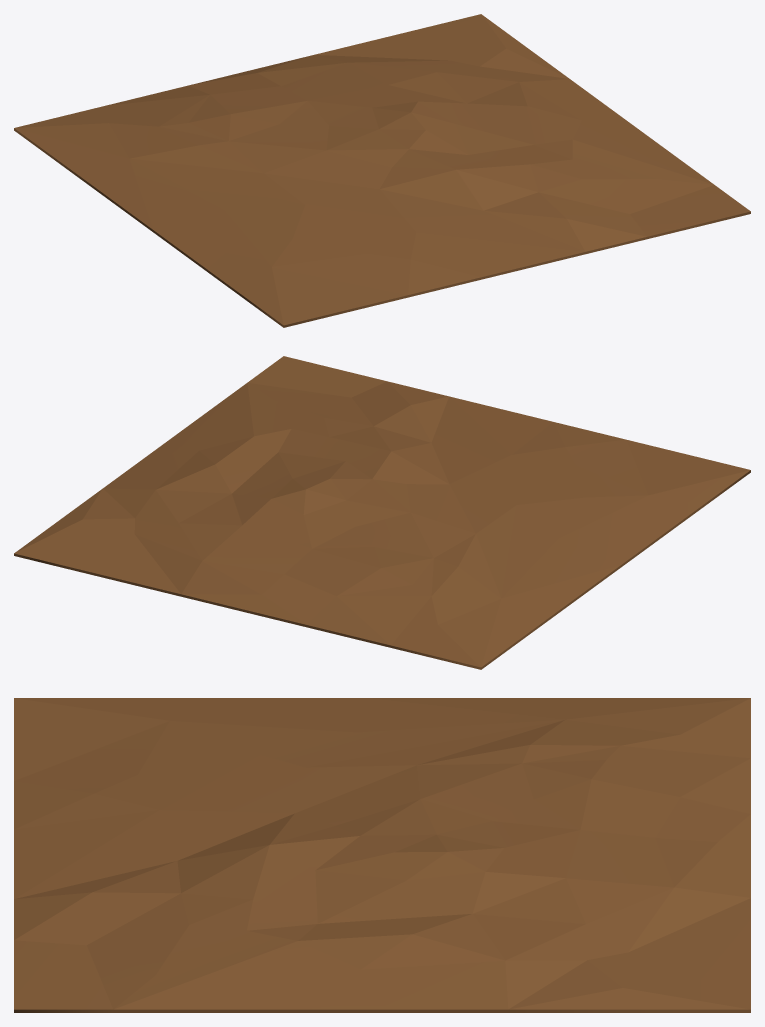
Rendered from Mud_02.fbx.
The picture shows the model from 3 angles, top to bottom: view 1: azimuth 30°, elevation 25°; view 2: azimuth 150°, elevation 25°; view 3: azimuth 270°, elevation 25°; orthographic projection. The views are drawn at different scales.
Visible parts, largest first — view 1: Mud_02; view 2: Mud_02; view 3: Mud_02.
Part boxes in pixels (<box>): Mud_02: <box>14,14,750,327</box>; Mud_02: <box>14,356,750,669</box>; Mud_02: <box>14,698,750,1012</box>.
Size of the model in its own units: 400 by 24.11 by 400.
